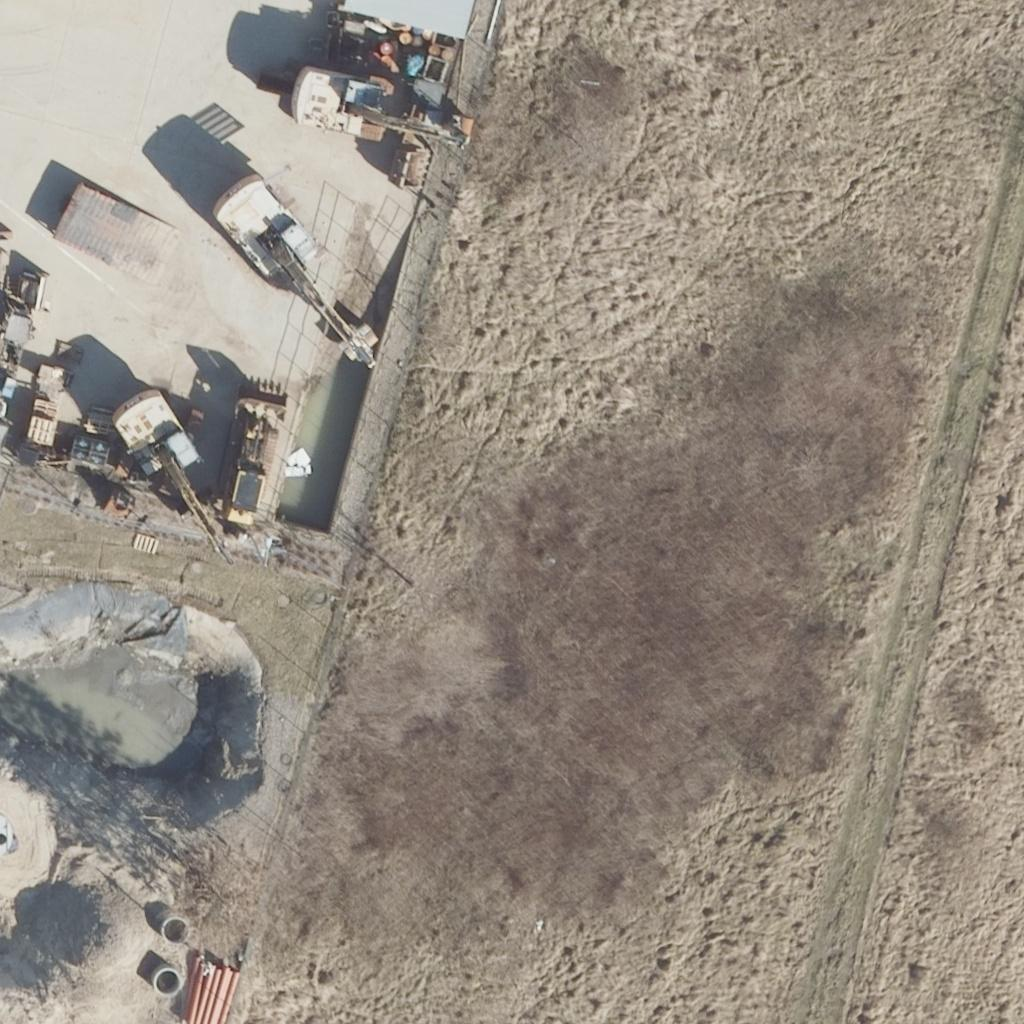koparka: (204, 171, 388, 369), (105, 389, 241, 579), (284, 64, 482, 166)
